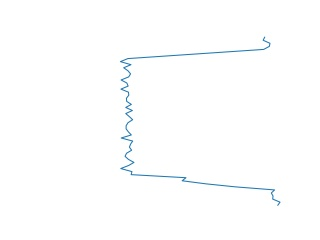distributaryChannelFill: (116, 37, 286, 205)
